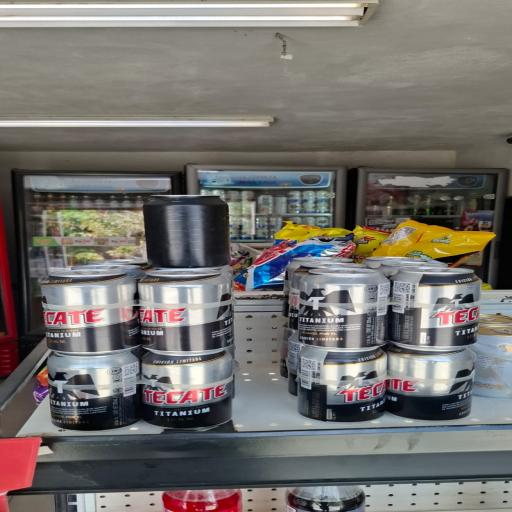LATA: (113, 193, 257, 270)
